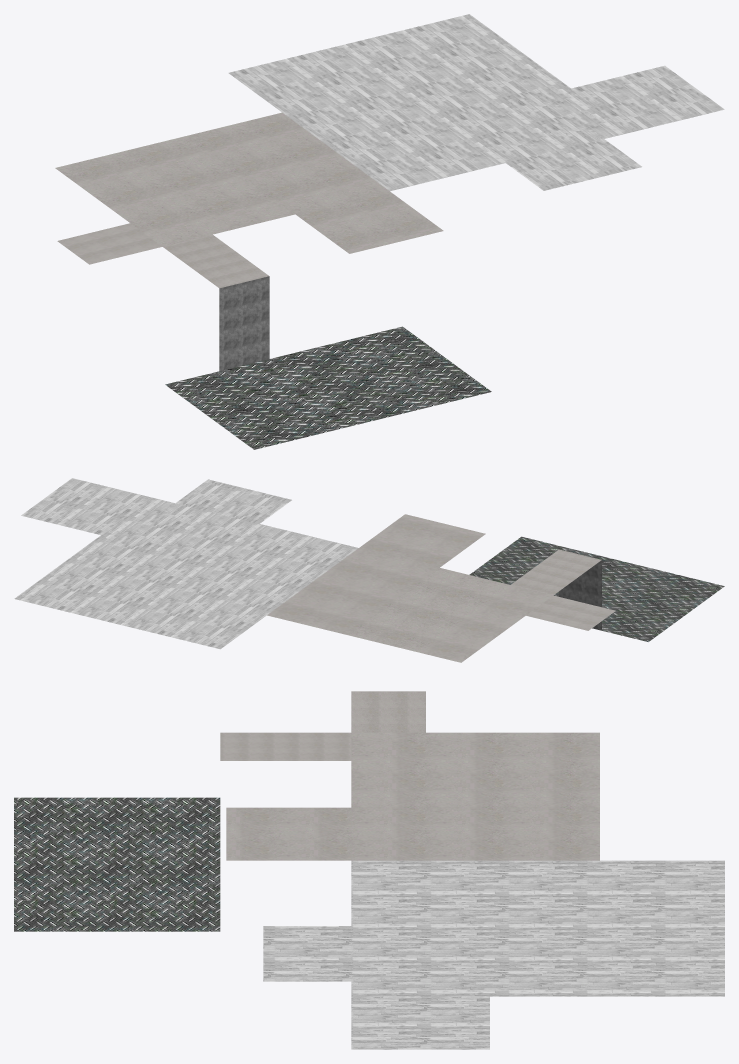
The picture shows the model from 3 angles, top to bottom: view 1: azimuth 30°, elevation 25°; view 2: azimuth 150°, elevation 25°; view 3: azimuth 270°, elevation 25°; orthographic projection. The views are drawn at different scales.
Visible parts, largest first — view 1: roof; view 2: roof; view 3: roof.
Boxes of the visible parts, bbox=[...] form: roof: bbox=[55, 14, 724, 449]; roof: bbox=[14, 478, 724, 662]; roof: bbox=[14, 691, 724, 1049].
Size of the model in its own units: 13.56 by 1.69 by 11.38.
4 materials, 4 textured.
